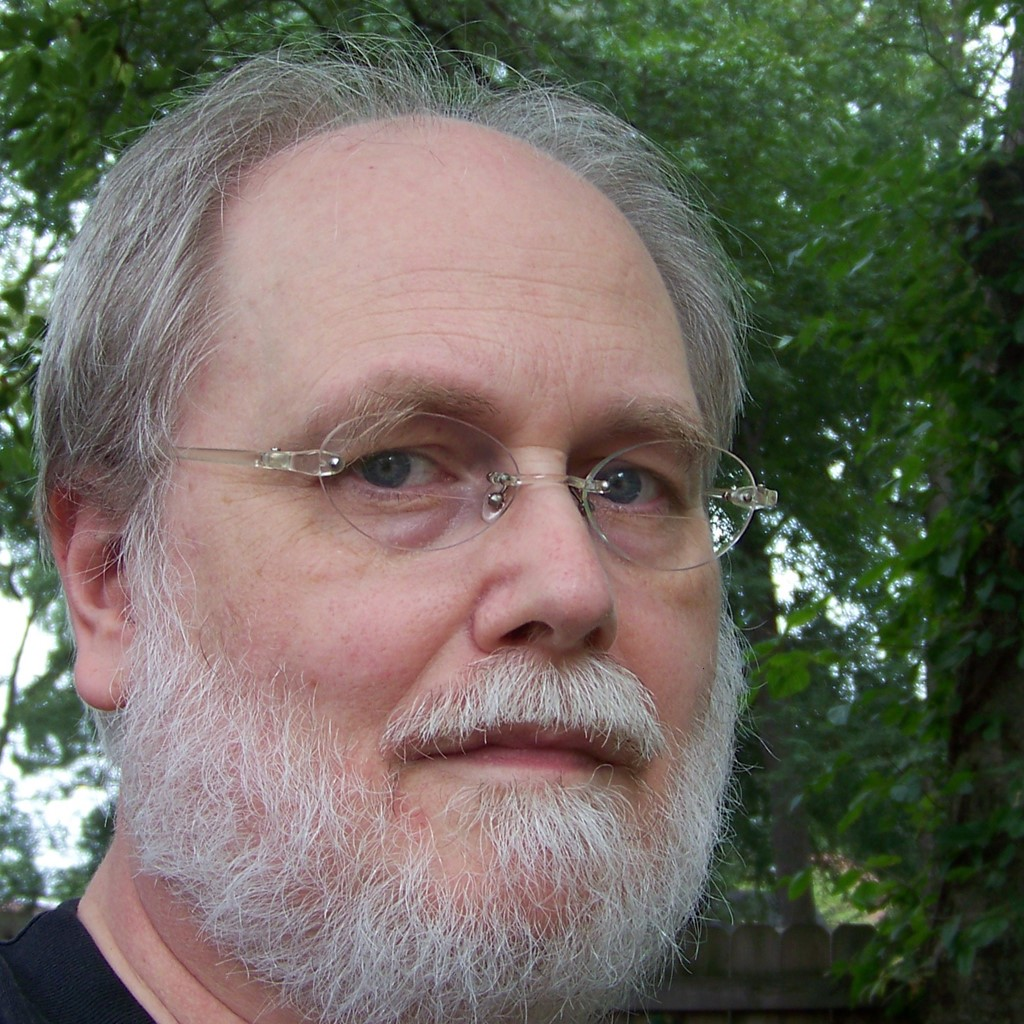sin_mascara: (138, 98, 703, 995)
